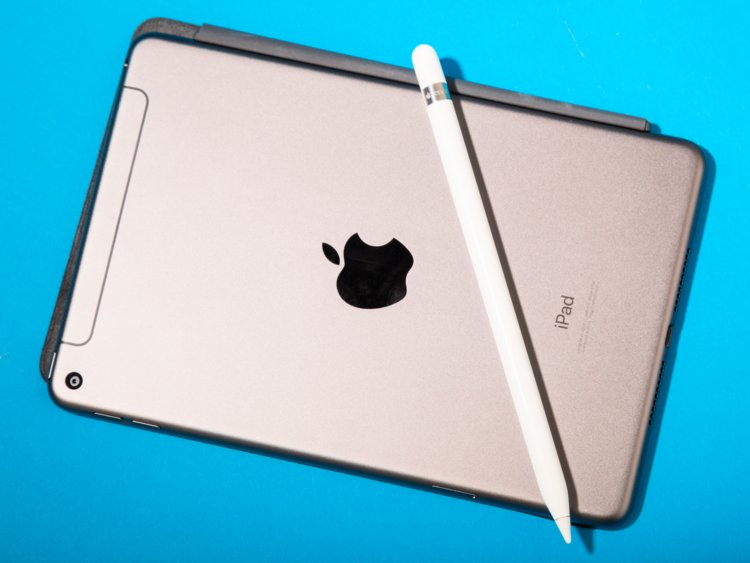apple: (318, 211, 420, 328)
